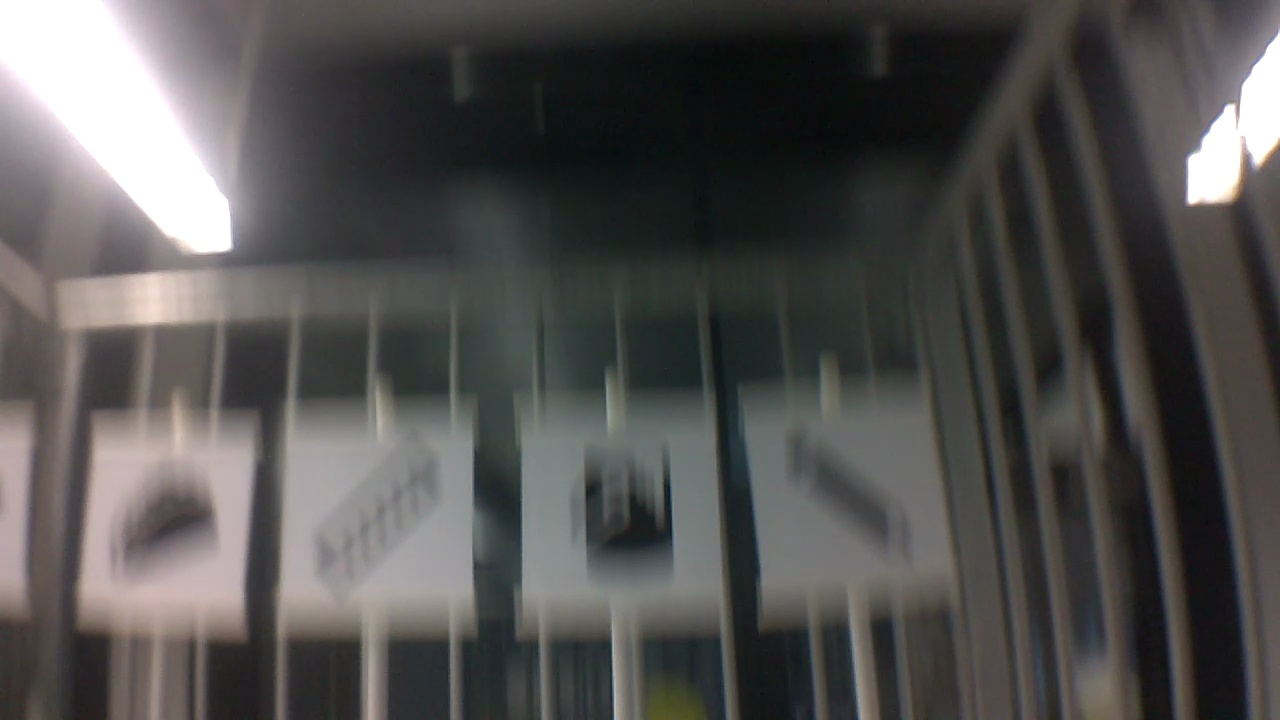bucket: (565, 439, 682, 582)
pencil: (766, 431, 915, 566)
taco: (103, 457, 224, 583)
